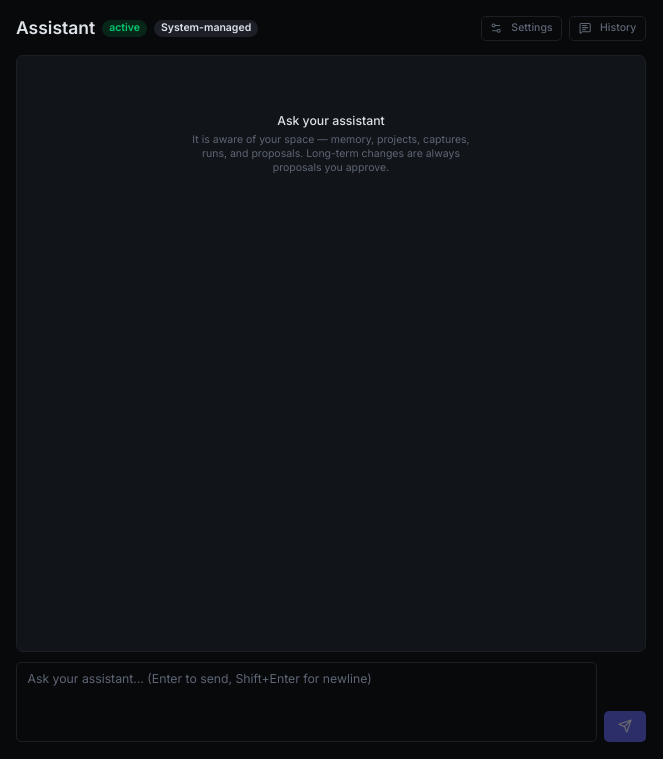
Test: AssistantChatPage — default model provider gating › shows an error bubble on ok:false and does not reload history
Type "hello" into the text box with placeholder "Ask your assistant" at (306, 702), box [16,662,597,742]
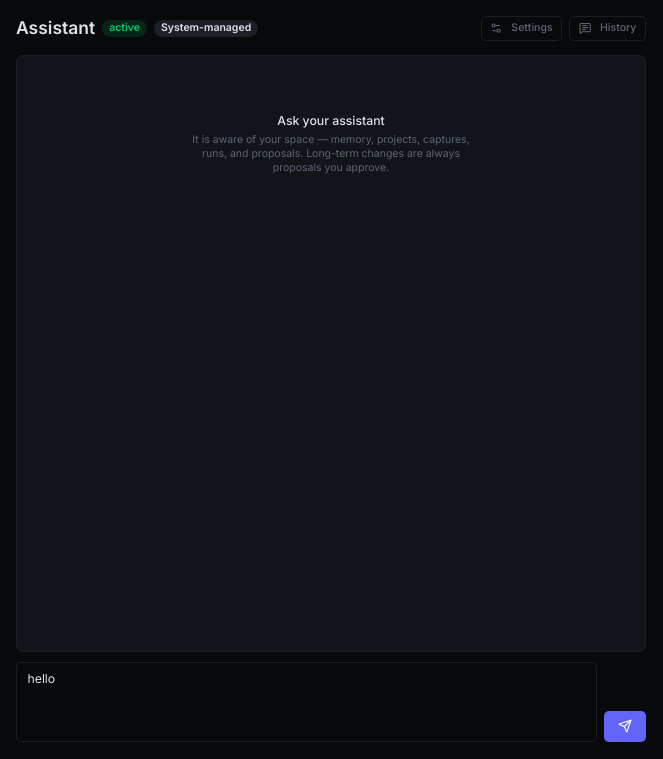
Press Enter in the text box with placeholder "Ask your assistant", box [16,662,597,742]
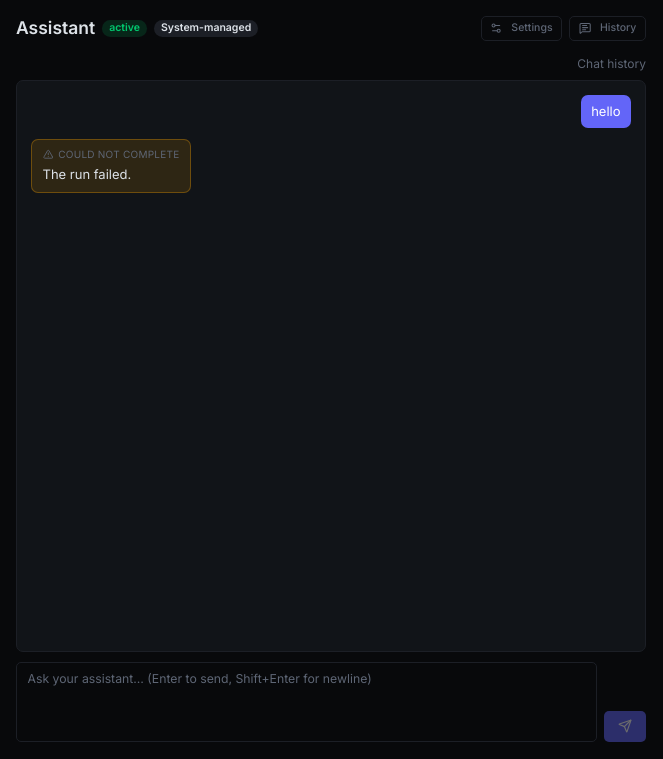
Expected: the text "Could not complete" is shown, [42,146,180,162]
Expected: the text "The run failed." is shown, [42,166,131,182]
